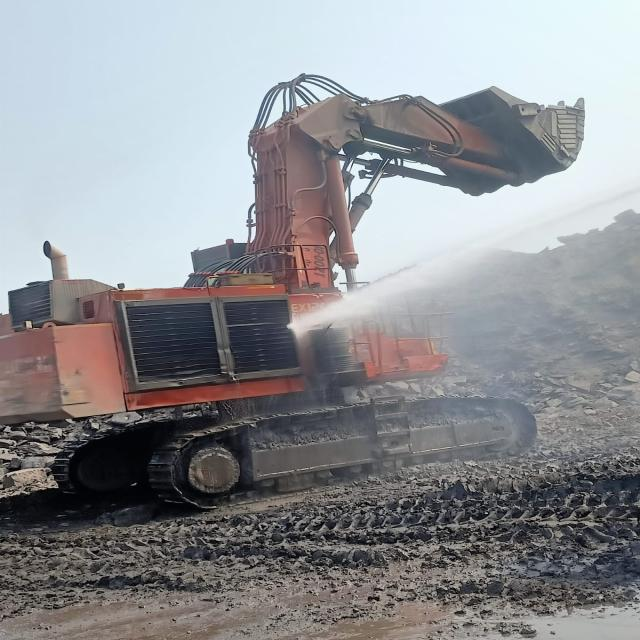excavator: (1, 54, 576, 496)
